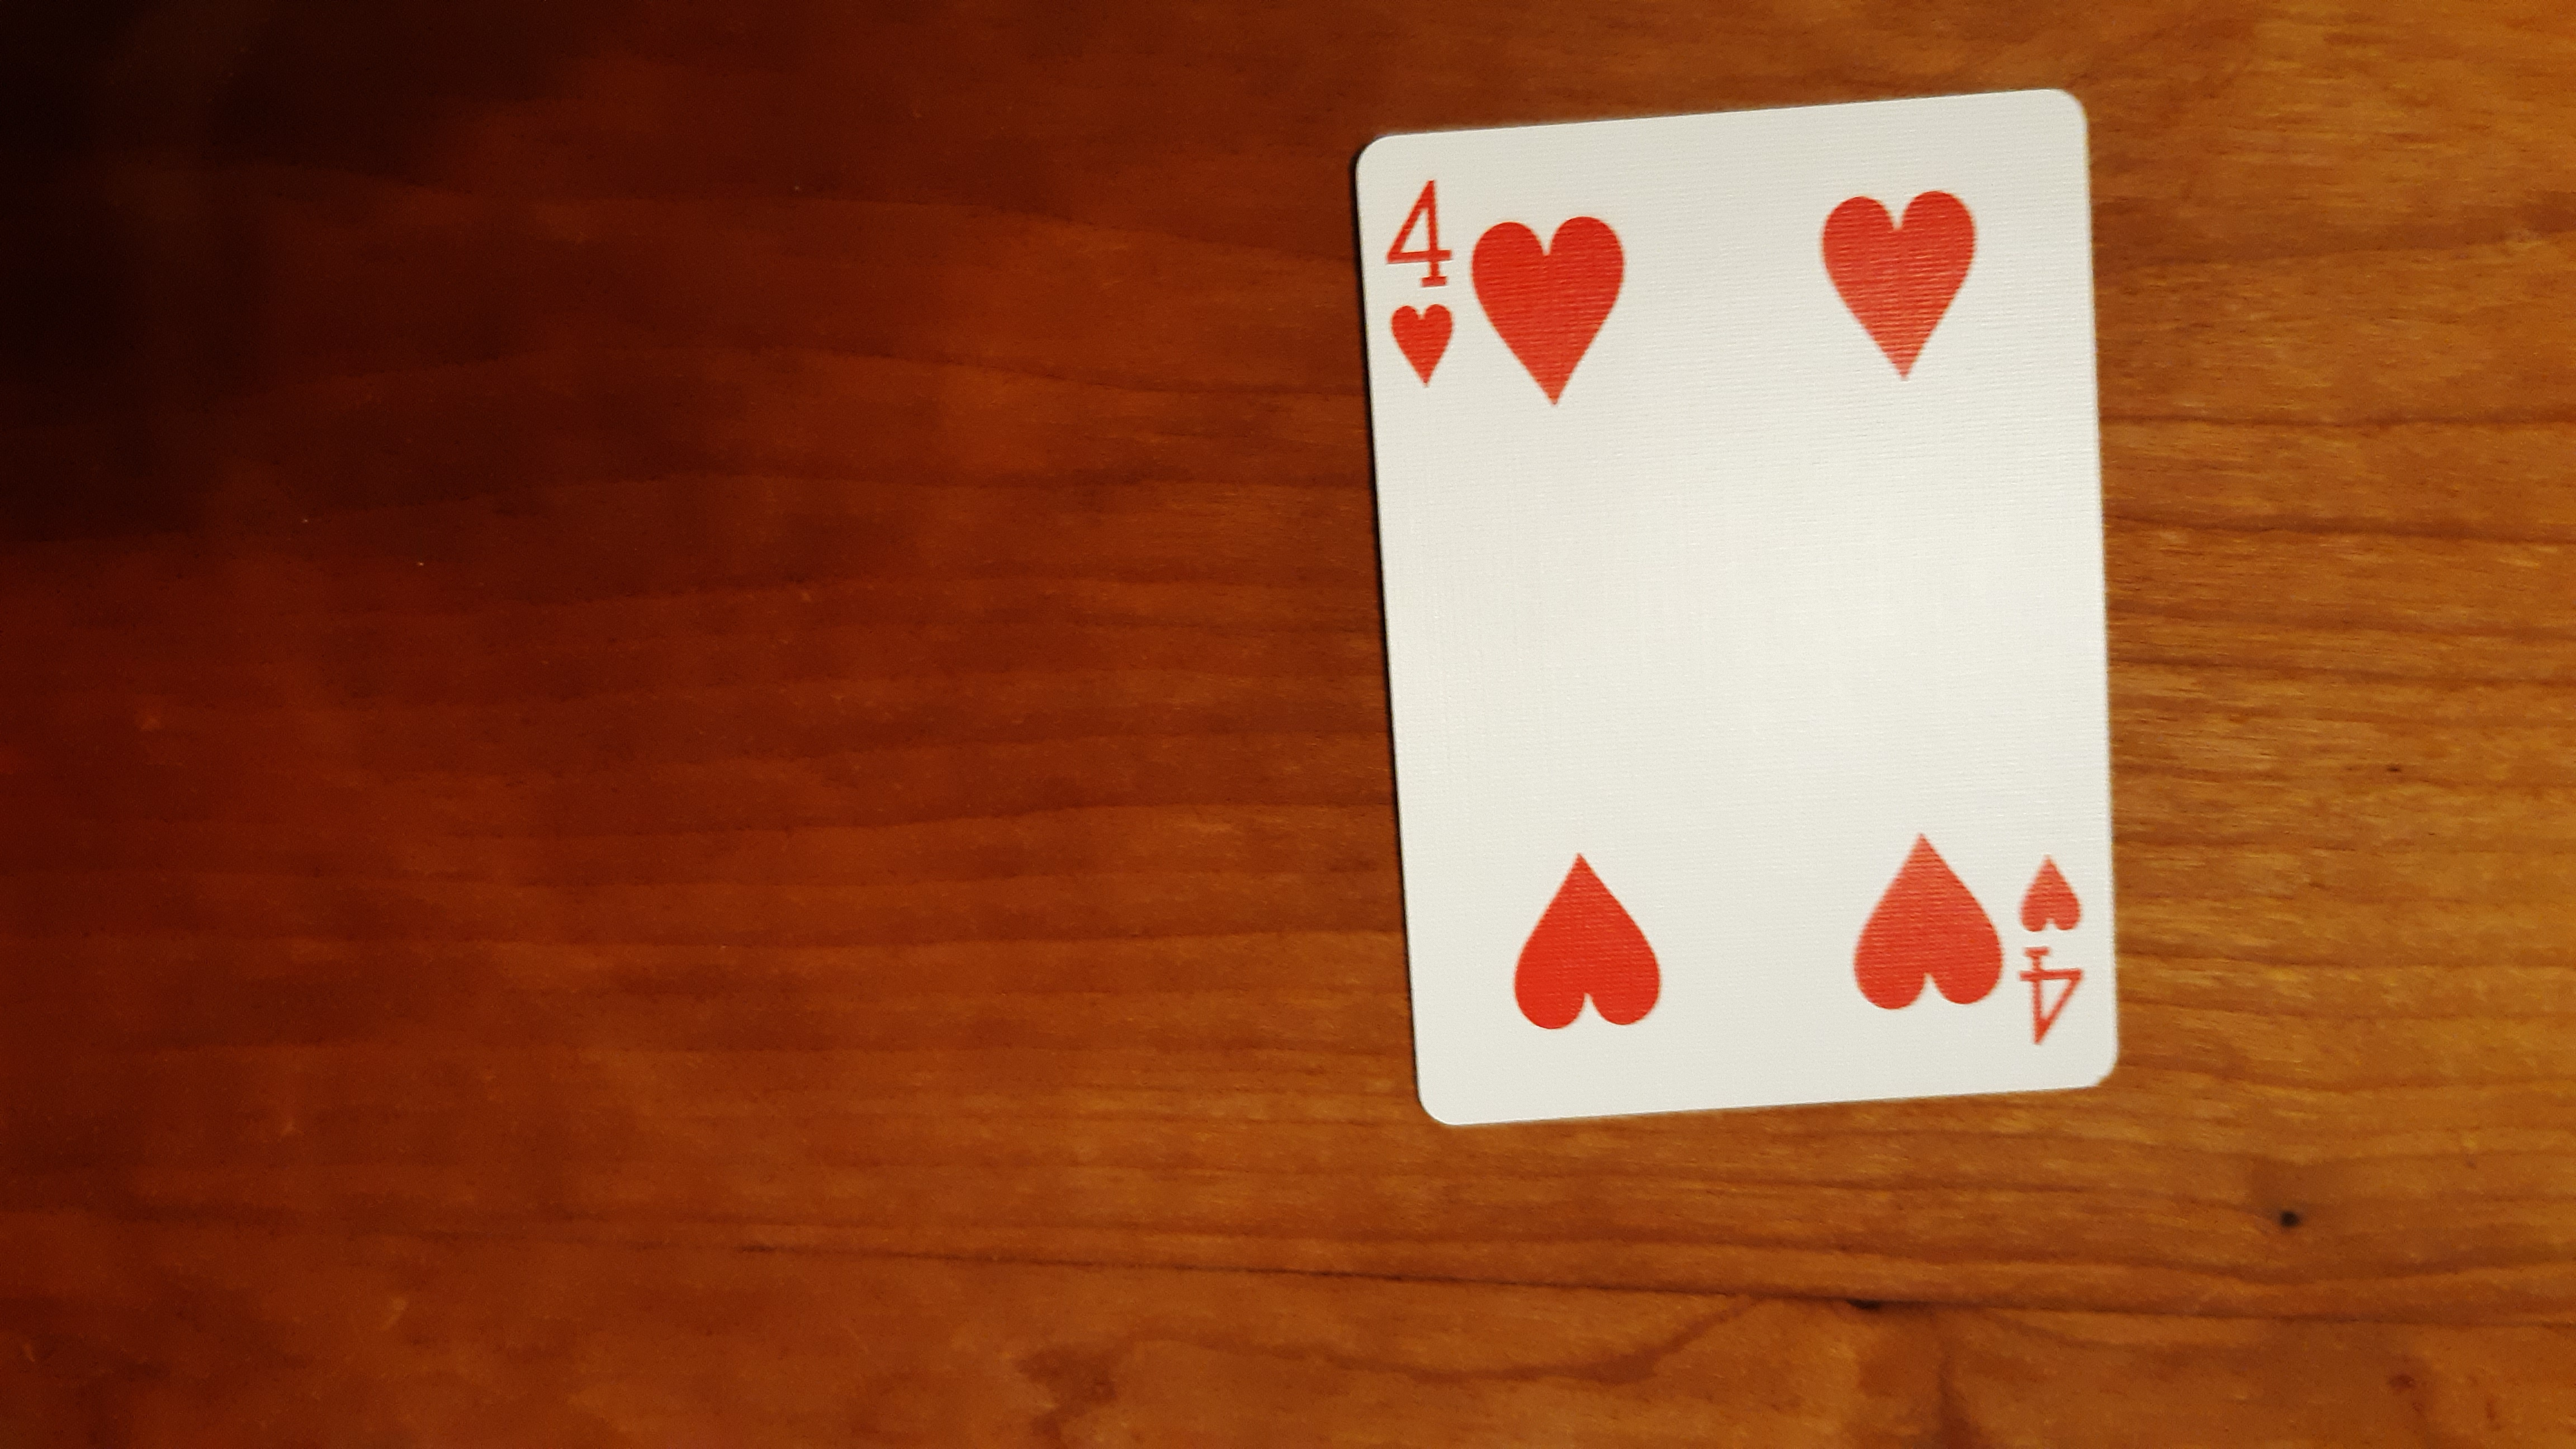Red_Heart_4: (1376, 170, 1465, 391), (2012, 847, 2104, 1053)
